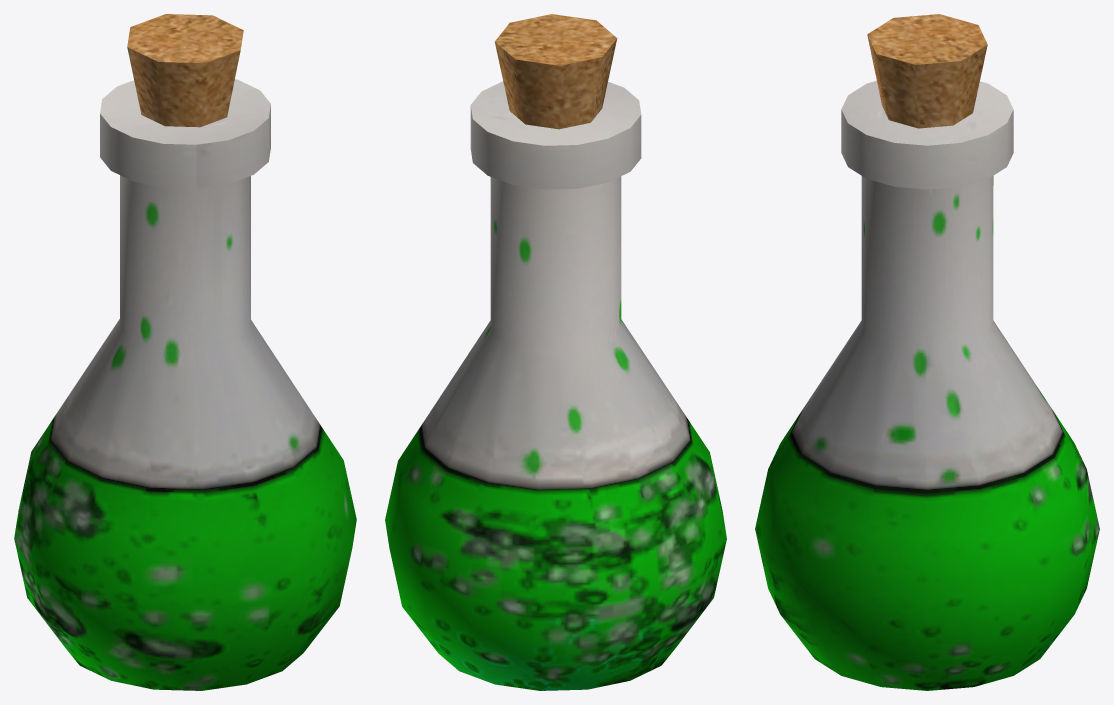
The model's file is kafuku.fbx.
3 views of the same model, side by side, from view 1: azimuth 30°, elevation 25°; view 2: azimuth 150°, elevation 25°; view 3: azimuth 270°, elevation 25° (orthographic).
Visible parts, largest first — view 1: Poison_Green_137; view 2: Poison_Green_137; view 3: Poison_Green_137.
Part boxes in pixels (left/top/right/bottom): Poison_Green_137: left=14, top=14, right=356, bottom=690; Poison_Green_137: left=385, top=14, right=726, bottom=690; Poison_Green_137: left=755, top=14, right=1099, bottom=690.
Size of the model in its own units: 0.3498 by 0.6714 by 0.3498.
